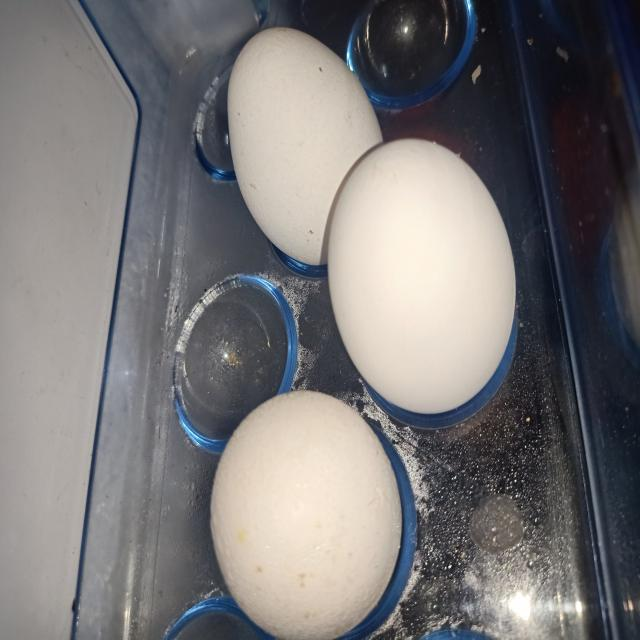Egg: (328, 138, 516, 414), (210, 391, 402, 640), (228, 26, 383, 265)
